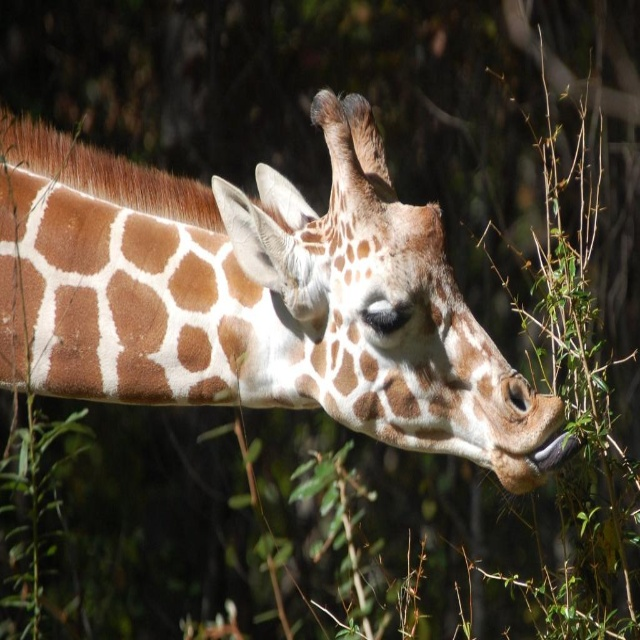Giraffe: (14, 87, 588, 519)
